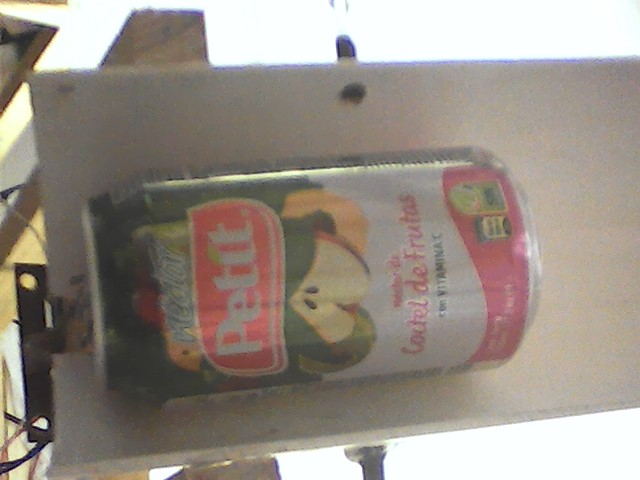lata: (71, 141, 556, 413)
